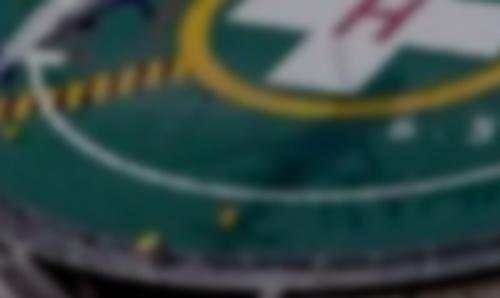Apron: (168, 1, 500, 125)
